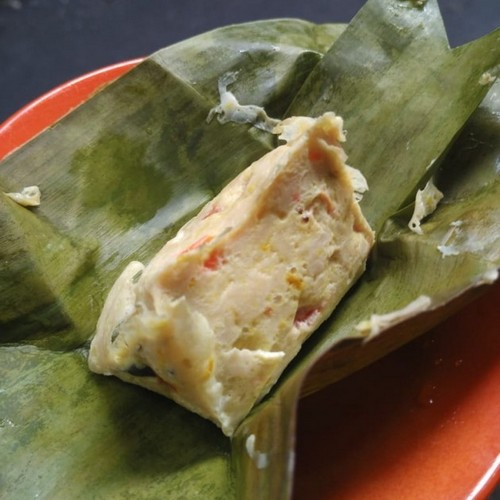tum ayam: (78, 108, 377, 418)
